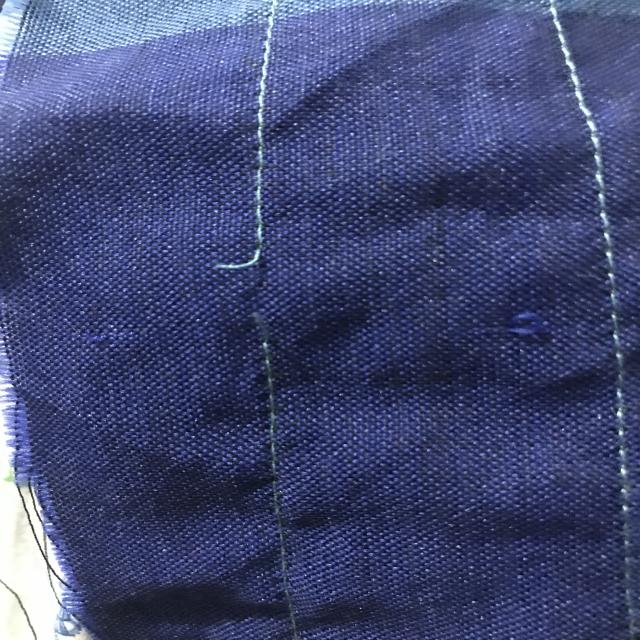broken: (208, 228, 300, 341)
